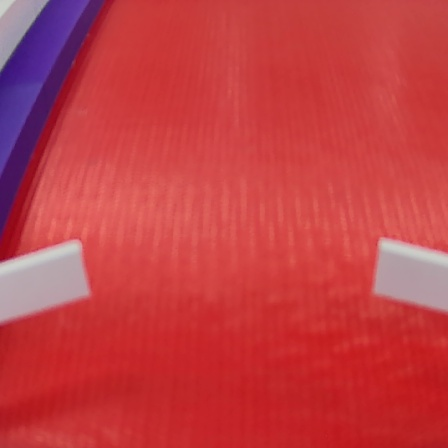red_aim: (3, 1, 446, 447)
